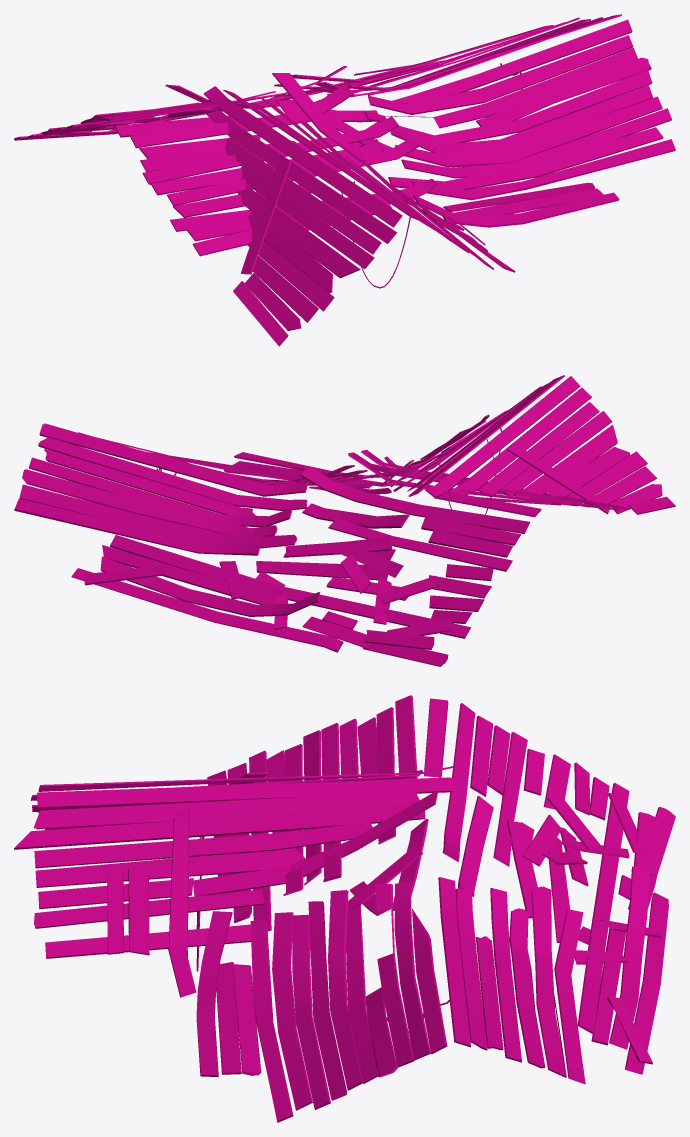
File: SM_SmallLodge_Roof.fbx
3 views of the same model, one above another, from view 1: azimuth 30°, elevation 25°; view 2: azimuth 150°, elevation 25°; view 3: azimuth 270°, elevation 25° (orthographic). The views are drawn at different scales.
Parts seen in each view (by area): view 1: Roof; view 2: Roof; view 3: Roof.
Boxes of the visible parts, x1,y1,x2,y2 form: Roof: [14, 14, 675, 346]; Roof: [14, 375, 675, 666]; Roof: [14, 695, 675, 1122].
Size of the model in its own units: 1390 by 1239 by 361.
